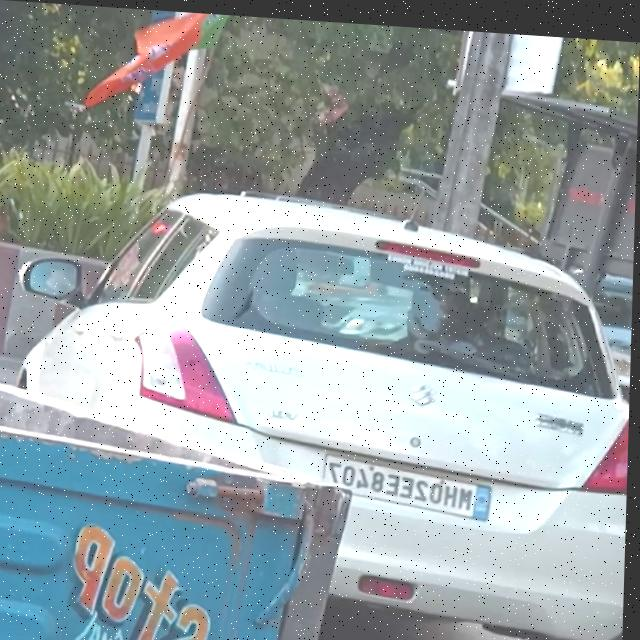plate: (323, 448, 495, 518)
